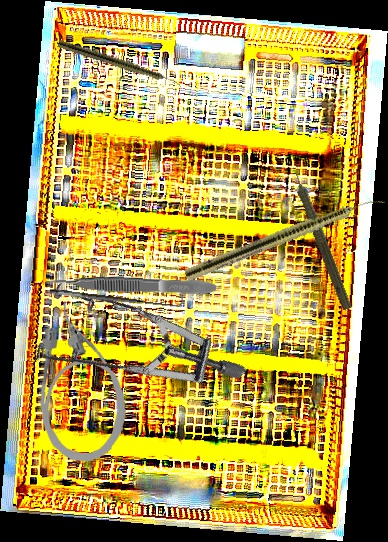Cannula: (34, 297, 129, 466)
Handpiece: (183, 189, 387, 285), (285, 160, 358, 312), (56, 39, 184, 89)
Hook Surgical: (49, 278, 185, 313)
Speculum: (7, 228, 249, 473)
Tissue Forceps: (49, 271, 217, 298)
